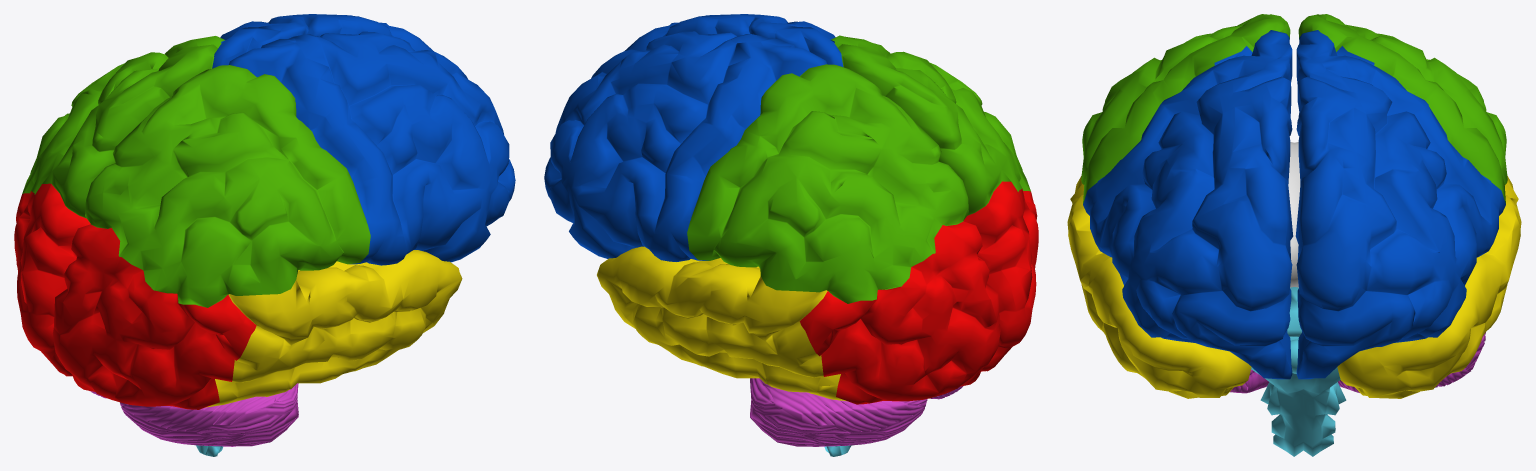
Rendered from asset.glb.
3 renders of one model, left to right at view 1: azimuth 30°, elevation 25°; view 2: azimuth 150°, elevation 25°; view 3: azimuth 270°, elevation 25°, orthographic. The views are drawn at different scales.
Parts seen in each view (by area): view 1: Material2 (1), Material2 (8), Material2 (10), Material2 (3), Material2 (5); view 2: Material2 (1), Material2 (8), Material2 (10), Material2 (3), Material2 (5); view 3: Material2 (8), Material2 (3), Material2 (1), Material2, Material2 (7), Material2 (5).
Part boxes in pixels (x1,y1,x2,y2): Material2 (1): (22, 36, 370, 307); Material2 (8): (212, 14, 515, 265); Material2 (10): (14, 183, 256, 409); Material2 (3): (205, 250, 462, 407); Material2 (5): (90, 383, 298, 446); Material2 (1): (687, 35, 1030, 303); Material2 (8): (544, 14, 843, 261); Material2 (10): (799, 181, 1038, 404); Material2 (3): (597, 246, 846, 401); Material2 (5): (750, 378, 963, 446); Material2 (8): (1083, 30, 1505, 379); Material2 (3): (1067, 176, 1521, 398); Material2 (1): (1081, 14, 1507, 203); Material2: (1251, 287, 1346, 456); Material2 (7): (1288, 142, 1300, 287); Material2 (5): (1230, 332, 1485, 393).
Size of the model in its own units: 1.29 by 1.13 by 1.06.
